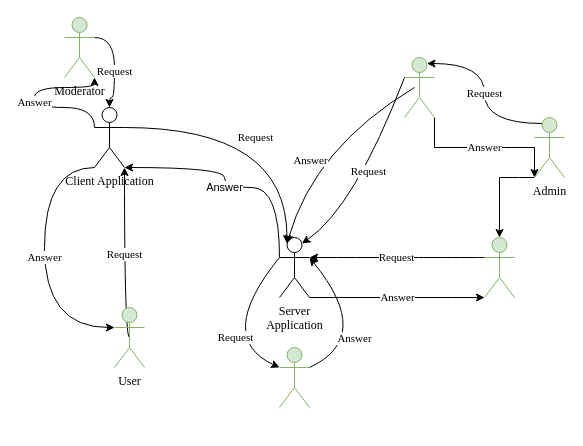
Image size: 583x446. Some labels were removed from this diagram. The centre of each missing label's shape, as x and y in pixels:
Client Admin Application: (419,87)
Database: (294,377)
SuperAdmin: (499,267)
